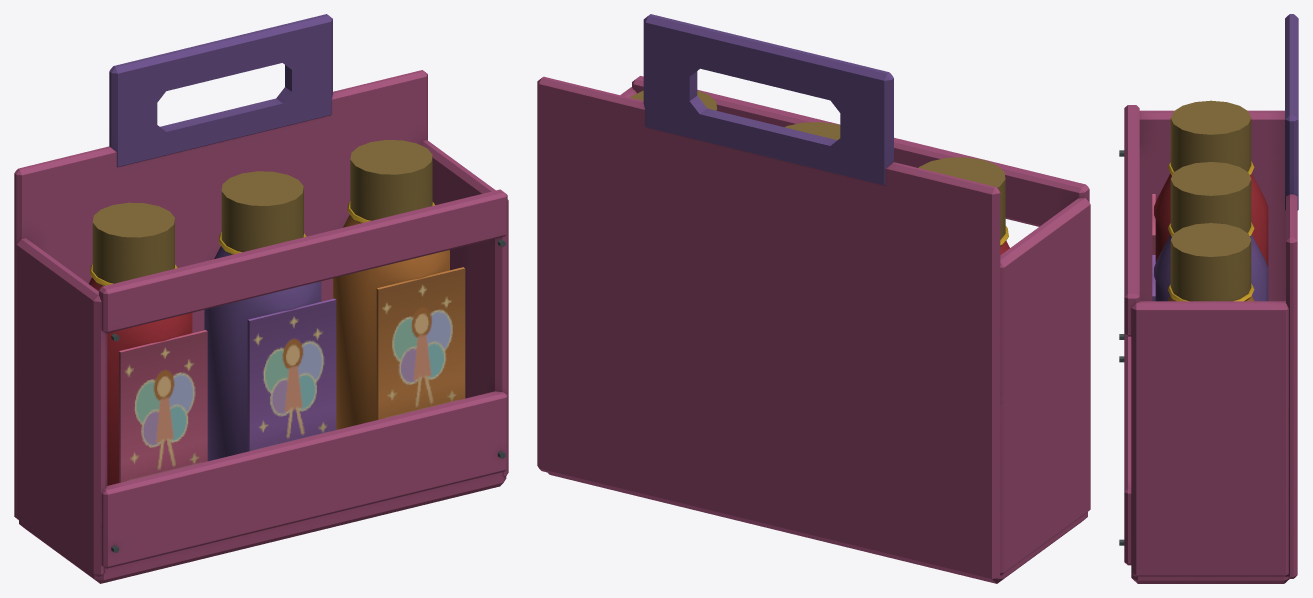
Rendered from bath_gift_set.obj.
3 renders of one model, left to right at view 1: azimuth 30°, elevation 25°; view 2: azimuth 150°, elevation 25°; view 3: azimuth 270°, elevation 25°, orthographic. The views are drawn at different scales.
Parts seen in each view (by area): view 1: bath_gift_set_static_0; view 2: bath_gift_set_static_0; view 3: bath_gift_set_static_0.
Part boxes in pixels (bbox=[...]): bath_gift_set_static_0: bbox=[14, 14, 508, 583]; bath_gift_set_static_0: bbox=[537, 14, 1090, 583]; bath_gift_set_static_0: bbox=[1119, 14, 1298, 583].
Bounding box in the file's own units: 0.277 × 0.2785 × 0.1065.
Materials: 1 (1 with a texture image).
